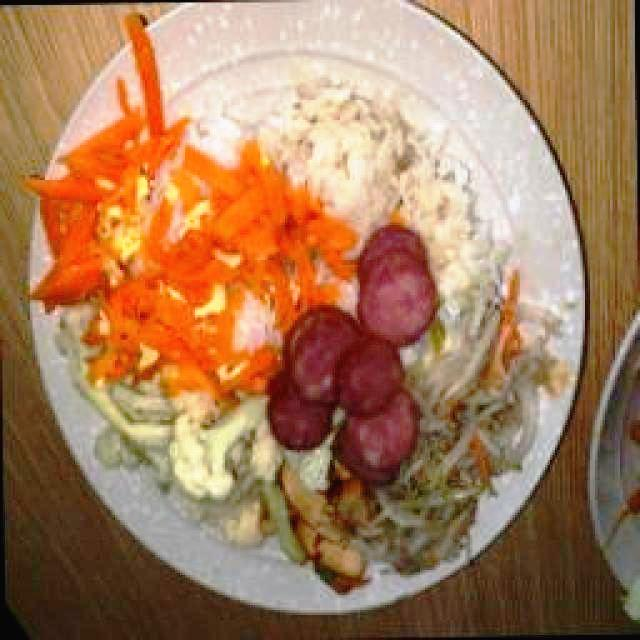carrot_eggs: (23, 13, 361, 407)
chinese_sausage: (263, 220, 441, 483)
